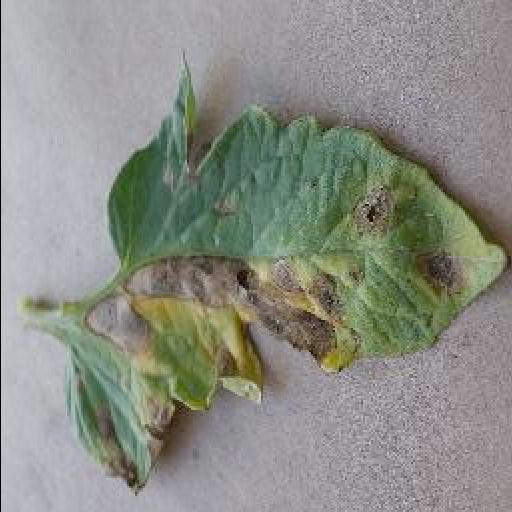disease_tomato: (66, 60, 508, 490)
